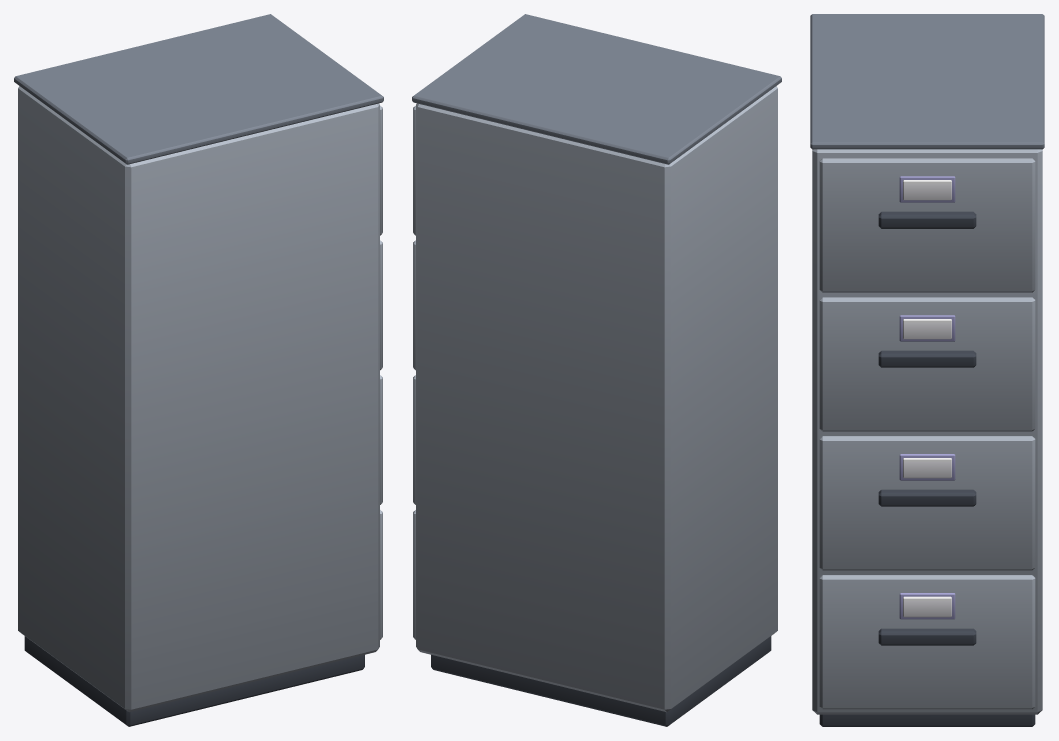
Rendered from Filing_Cabinet.fbx.
3 renders of one model, left to right at view 1: azimuth 30°, elevation 25°; view 2: azimuth 150°, elevation 25°; view 3: azimuth 270°, elevation 25°, orthographic. The views are drawn at different scales.
Parts seen in each view (by area): view 1: Filing_Cabinet; view 2: Filing_Cabinet; view 3: Filing_Cabinet.
Boxes of the visible parts, x1,y1,x2,y2 form: Filing_Cabinet: (14, 14, 383, 726); Filing_Cabinet: (412, 14, 781, 726); Filing_Cabinet: (810, 14, 1044, 726).
Size of the model in its own units: 2.97 by 6 by 2.15.
1 material, 1 textured.
